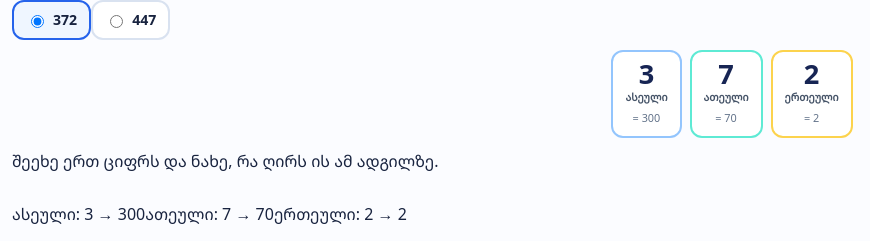
Scenario: tools: the digit lab lights up a place › switches numbers and forgets the tapped digit
Click the button "3 ასეული = 300": [646, 94] box [611,50,682,138]
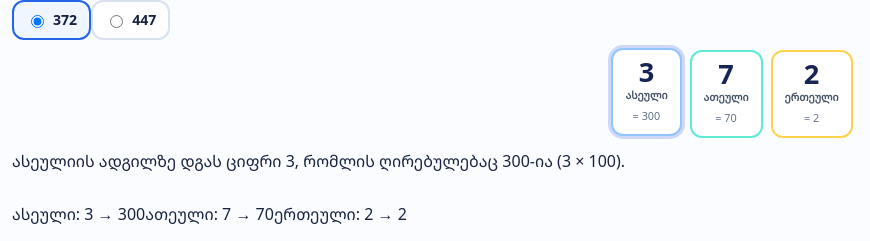
Click the radio button labelled "447": [117, 22] box [110,15,123,28]
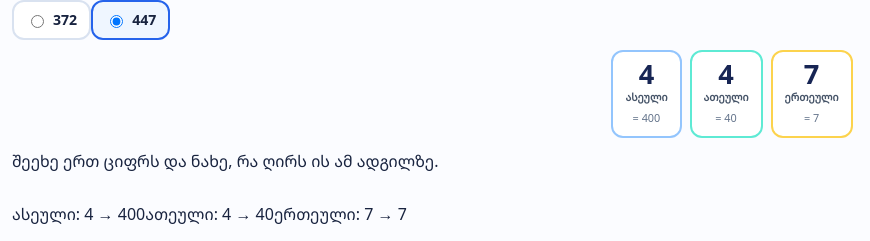
Result: the message with class "lab-status" shows "შეეხე ერთ ციფრს" at [12,150,438,172]
